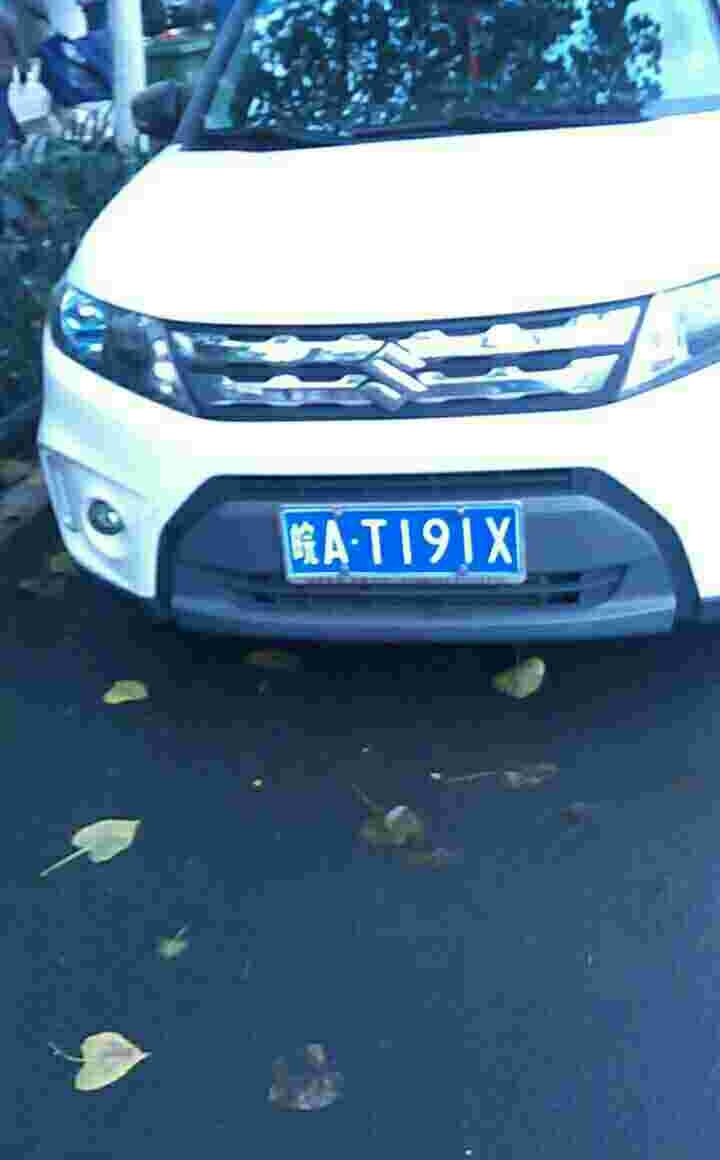license_plate: (290, 505, 523, 579)
